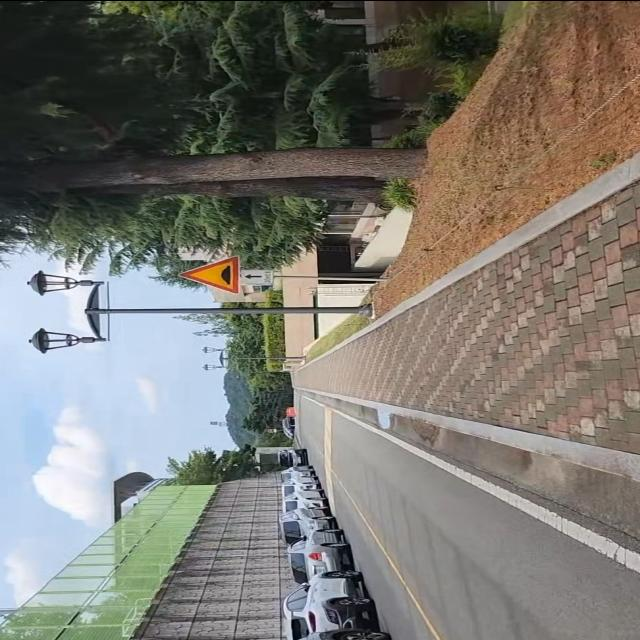road: (297, 391, 640, 640)
sidewalk: (290, 156, 640, 481)
